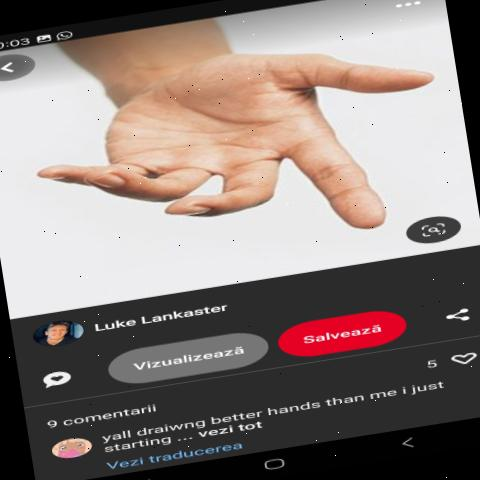hands: (0, 2, 435, 292)
